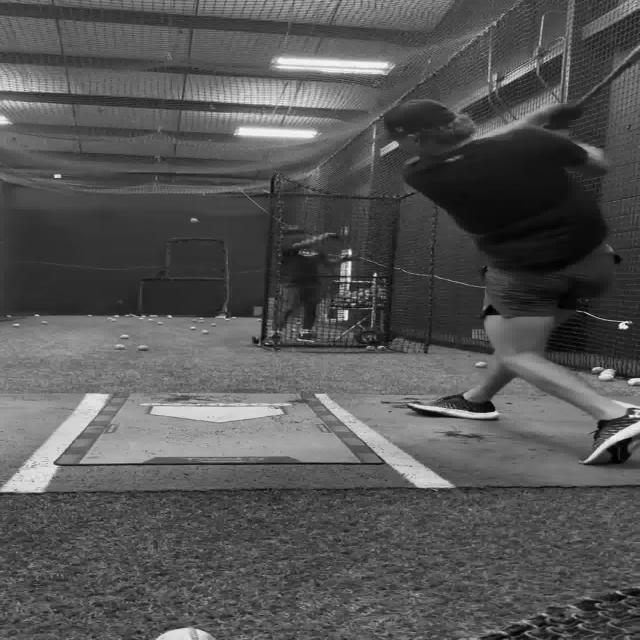base: (147, 406, 291, 421)
baseball: (154, 626, 216, 640), (590, 366, 604, 374), (626, 378, 640, 386), (474, 362, 486, 368), (136, 344, 148, 350), (114, 344, 125, 349), (120, 334, 128, 339), (200, 329, 208, 334), (190, 218, 198, 222), (12, 323, 20, 327), (40, 320, 48, 324), (189, 326, 196, 330), (210, 322, 217, 326), (34, 314, 40, 317)
bat: (560, 42, 640, 108)
shoe: (576, 407, 639, 465), (405, 392, 499, 419)
